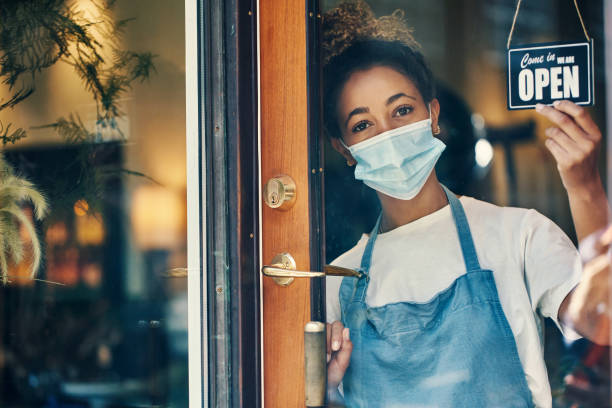with mask: (329, 67, 441, 201)
